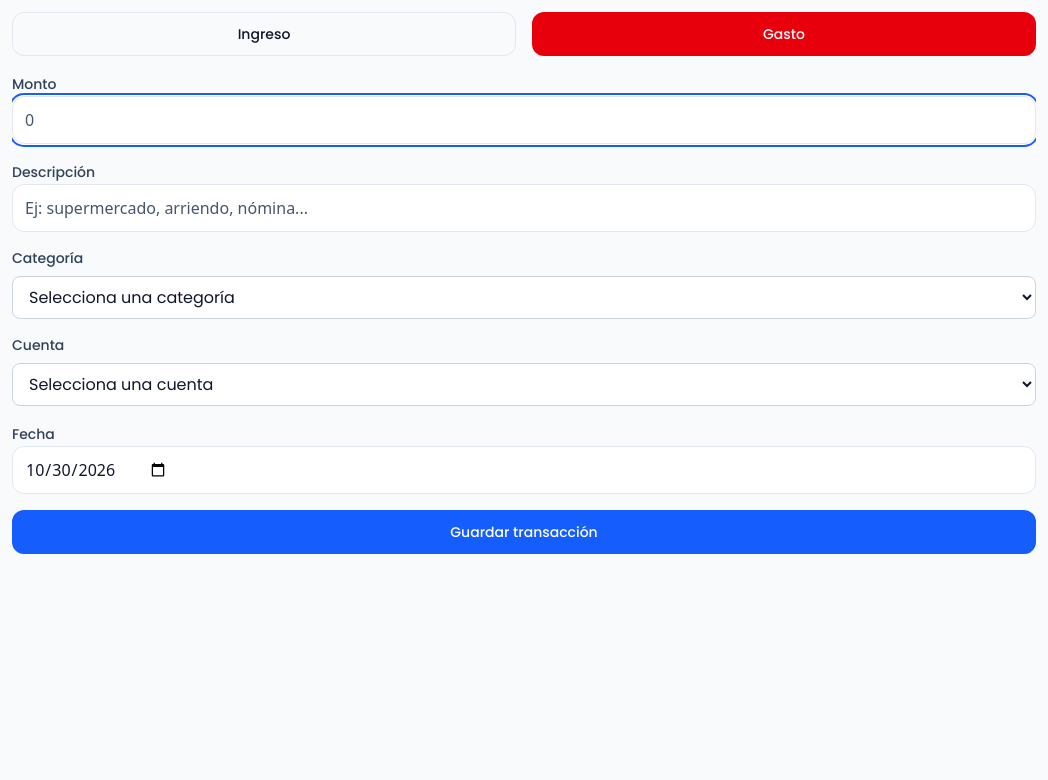
TransactionForm AI diagnostic notice › explains an invalid key even when the local engine finds nothing
Type "almuerzo" into the field with test id "description-input" at (524, 208), box [12, 184, 1036, 232]
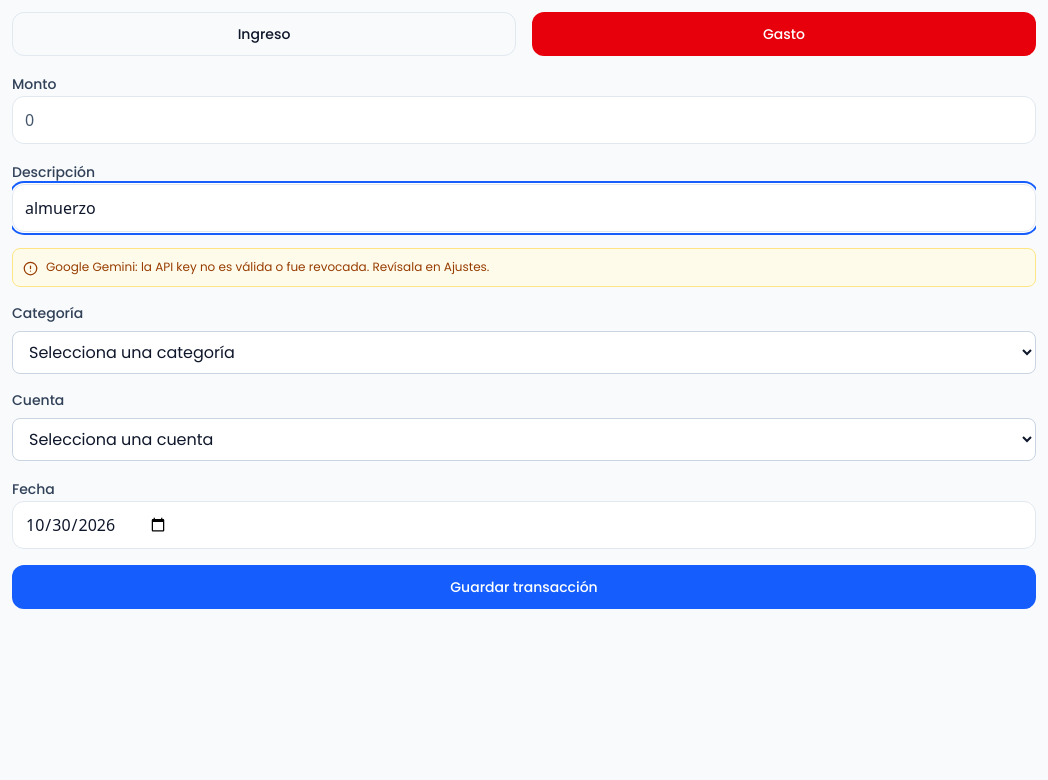
Expected: the element with test id "ai-diagnostic-notice" does not show "reglas locales", [12, 248, 1036, 287]
Now the element with test id "ai-diagnostic-notice" shows "API key no es válida", box [46, 258, 489, 275]
